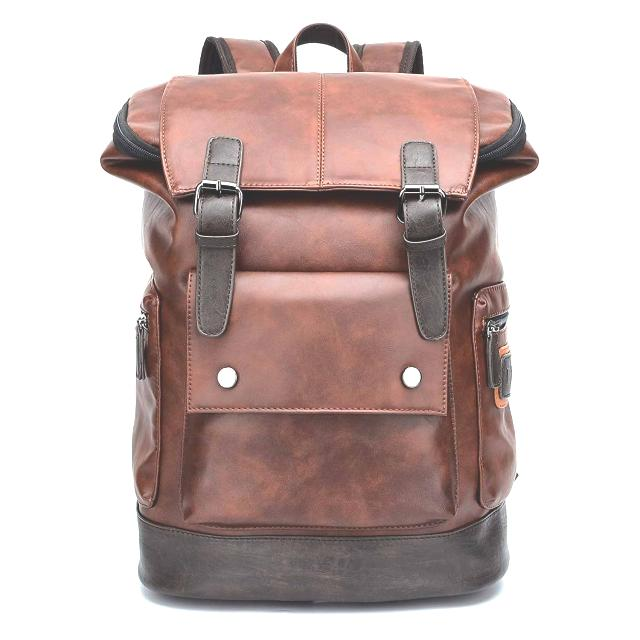backpack: (100, 23, 540, 605)
